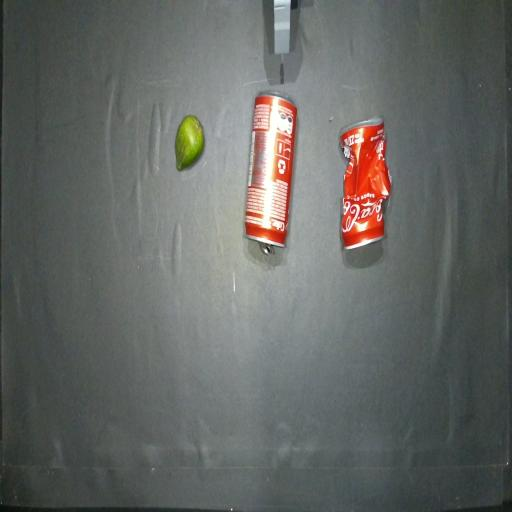higo: (175, 115, 204, 170)
lata: (245, 94, 297, 253)
lata_defectuoso: (340, 118, 391, 248)
